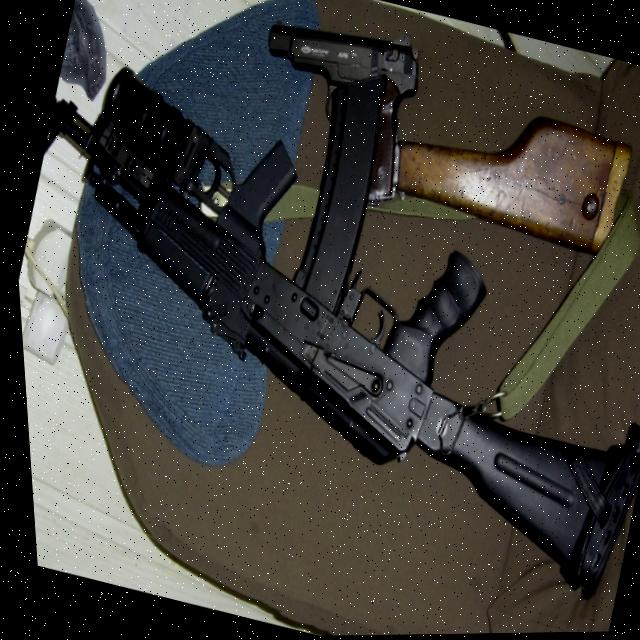firearm: (3, 46, 640, 604)
pistol: (231, 0, 436, 205)
rocket: (75, 56, 262, 221)
